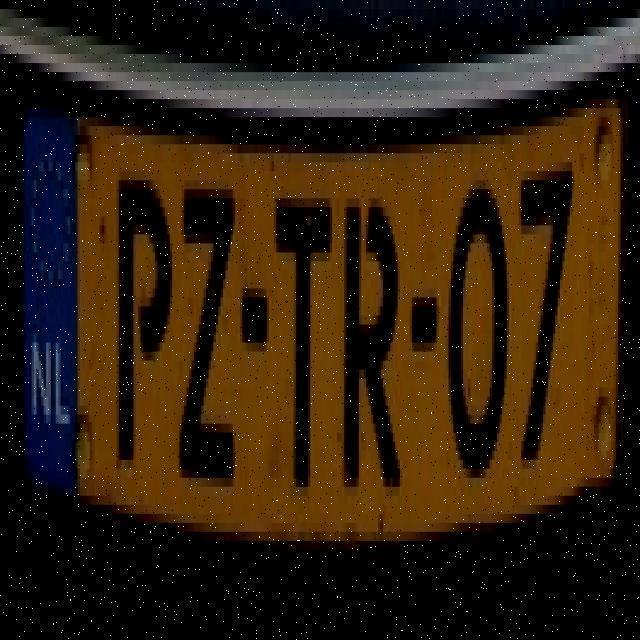LicensePlate: (9, 36, 634, 572)
